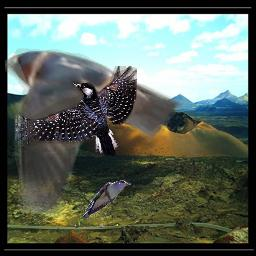Cuckoo: (75, 180, 131, 228)
Swallow: (5, 43, 183, 213)
Woodpecker: (15, 66, 137, 156)
